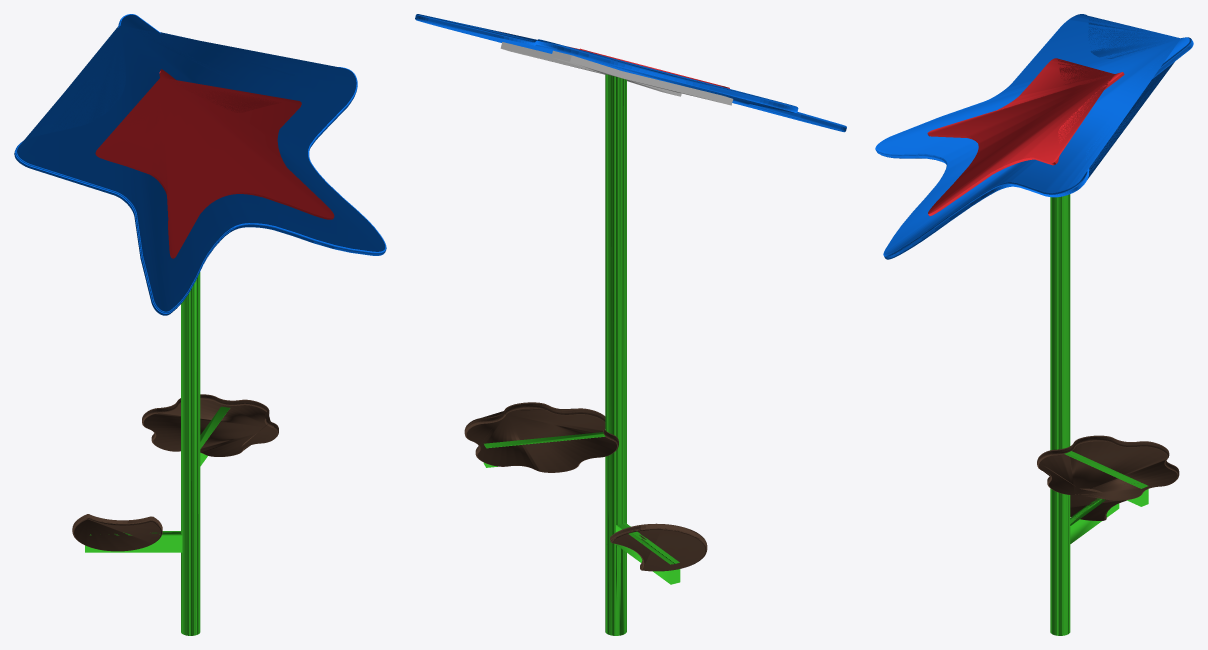
3 views of the same model, side by side, from view 1: azimuth 30°, elevation 25°; view 2: azimuth 150°, elevation 25°; view 3: azimuth 270°, elevation 25° (orthographic). The views are drawn at different scales.
Parts seen in each view (by area): view 1: D_79; view 2: D_79; view 3: D_79.
Part boxes in pixels (x1,y1,x2,y2): D_79: (14, 14, 386, 635); D_79: (415, 14, 846, 635); D_79: (875, 14, 1193, 635).
Bounding box in the file's own units: 121 × 195 × 95.1.
